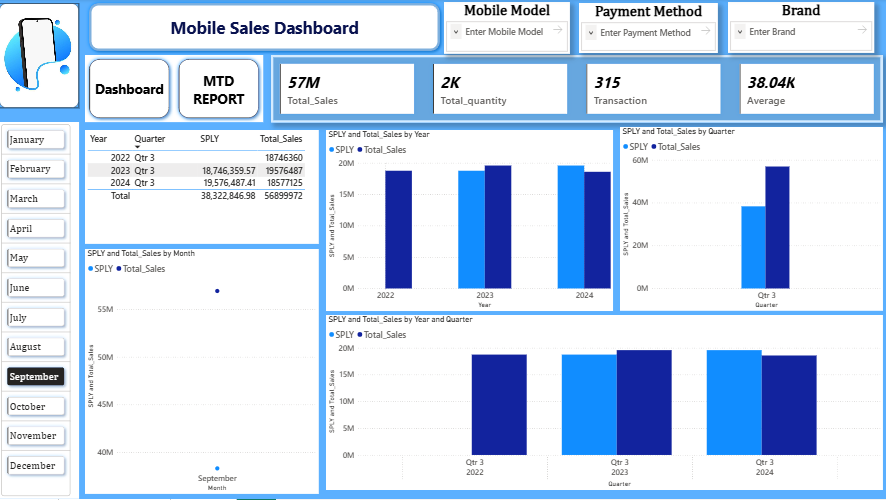

Layout of this report page (visuals, bound fields, positions):
{"tool":"powerbi","page":{"name":"SPLY","canvas":[1920,1080],"ordinal":2},"visuals":[{"type":"image","box":[0,8.6,172.8,226.8],"z":0},{"type":"cardVisual","fields":{"Data":["Sales_data.Total_Sales","Sales_data.Total_quantity","Sales_data.Transaction","Sales_data.Average"]},"box":[588,120,1322,146],"z":1000},{"type":"textSlicer","fields":{"Values":["Sales_data.Mobile Model"]},"box":[962,6,272,112],"z":2000},{"type":"textSlicer","fields":{"Values":["Sales_data.Payment Method"]},"box":[1252.8,8.6,300.2,108],"z":3000},{"type":"textSlicer","fields":{"Values":["Sales_data.Brand"]},"box":[1574,6,316,110],"z":4000},{"type":"shape","box":[185.8,0,775.4,121],"z":5000},{"type":"advancedSlicerVisual","fields":{"Values":["Custom_Calender.Date.Variation.Date Hierarchy.Month"]},"box":[0,265.7,172.8,814.3],"z":6000},{"type":"tableEx","fields":{"Values":["Custom_Calender.Date.Variation.Date Hierarchy.Year","Custom_Calender.Date.Variation.Date Hierarchy.Quarter","Sales_data.SPLY","Sales_data.Total_Sales"]},"box":[185.8,283,505.4,246.2],"z":7000},{"type":"clusteredColumnChart","fields":{"Category":["Custom_Calender.Date.Variation.Date Hierarchy.Year","Custom_Calender.Date.Variation.Date Hierarchy.Quarter"],"Y":["Sales_data.SPLY","Sales_data.Total_Sales"]},"box":[706.3,283,619.9,391],"z":8000},{"type":"clusteredColumnChart","fields":{"Y":["Sales_data.SPLY","Sales_data.Total_Sales"],"Category":["Custom_Calender.Date.Variation.Date Hierarchy.Quarter"]},"box":[1341.4,276.5,568.1,397.4],"z":9000},{"type":"pageNavigator","box":[185,120,385,145],"z":10000},{"type":"lineChart","fields":{"Y":["Sales_data.SPLY","Sales_data.Total_Sales"],"Category":["Custom_Calender.Date.Variation.Date Hierarchy.Month"]},"box":[185.8,540,505.4,529.2],"z":11000},{"type":"clusteredColumnChart","fields":{"Y":["Sales_data.SPLY","Sales_data.Total_Sales"],"Category":["Custom_Calender.Date.Variation.Date Hierarchy.Year","Custom_Calender.Date.Variation.Date Hierarchy.Quarter","Custom_Calender.Date.Variation.Date Hierarchy.Month","Custom_Calender.Date.Variation.Date Hierarchy.Day"]},"box":[706.3,682.6,1203.1,378],"z":12000}]}

Visuals, with their boxes in screenshot pixels (x1, y1, x2, y2), scaled from the page's 1920x1080 canvas onto the 886x500 screenshot:
image: x1=0, y1=4, x2=80, y2=109
cardVisual - Sales_data.Total_Sales x Sales_data.Total_quantity: x1=271, y1=56, x2=881, y2=123
textSlicer - Sales_data.Mobile Model: x1=444, y1=3, x2=569, y2=55
textSlicer - Sales_data.Payment Method: x1=578, y1=4, x2=717, y2=54
textSlicer - Sales_data.Brand: x1=726, y1=3, x2=872, y2=54
shape: x1=86, y1=0, x2=444, y2=56
advancedSlicerVisual - Custom_Calender.Date.Variation.Date Hierarchy.Month: x1=0, y1=123, x2=80, y2=499
tableEx - Custom_Calender.Date.Variation.Date Hierarchy.Year x Custom_Calender.Date.Variation.Date Hierarchy.Quarter: x1=86, y1=131, x2=319, y2=245
clusteredColumnChart - Custom_Calender.Date.Variation.Date Hierarchy.Year x Custom_Calender.Date.Variation.Date Hierarchy.Quarter: x1=326, y1=131, x2=612, y2=312
clusteredColumnChart - Sales_data.SPLY x Sales_data.Total_Sales: x1=619, y1=128, x2=881, y2=312
pageNavigator: x1=85, y1=56, x2=263, y2=123
lineChart - Sales_data.SPLY x Sales_data.Total_Sales: x1=86, y1=250, x2=319, y2=495
clusteredColumnChart - Sales_data.SPLY x Sales_data.Total_Sales: x1=326, y1=316, x2=881, y2=491
